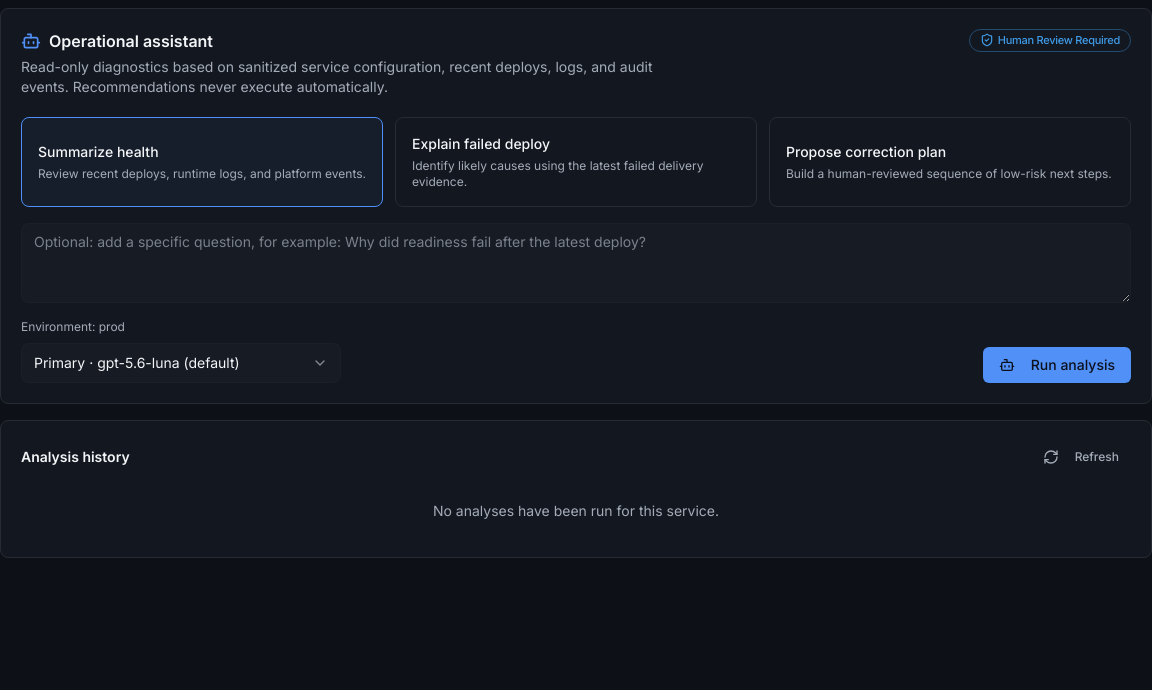
it: AssistantTab › runs a read-only analysis for the selected environment
Expected: the dropdown named "ai provider" is shown, [21, 343, 341, 383]
Click the button "Explain failed deploy". click: [576, 162]
box: [395, 117, 757, 207]
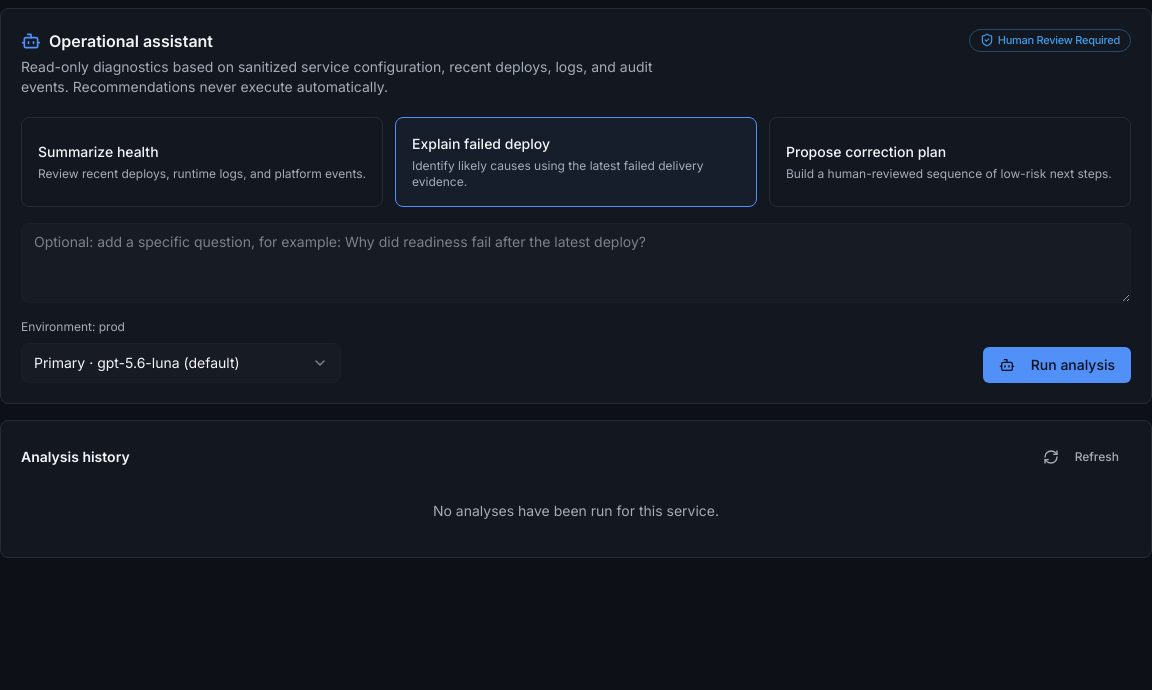
Replace the text in the text box with placeholder "Optional: add a specific question" with "What changed?". click: [576, 263]
box: [21, 223, 1131, 303]
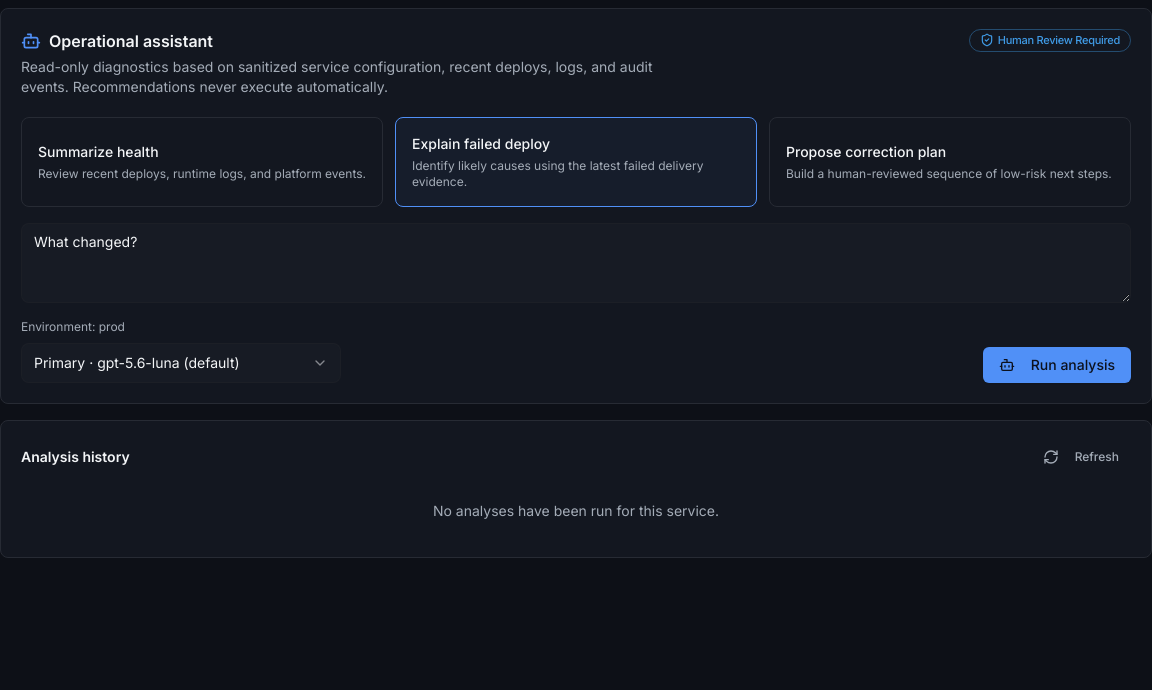
Click the button "Run analysis". click: [1057, 365]
box: [983, 347, 1131, 383]
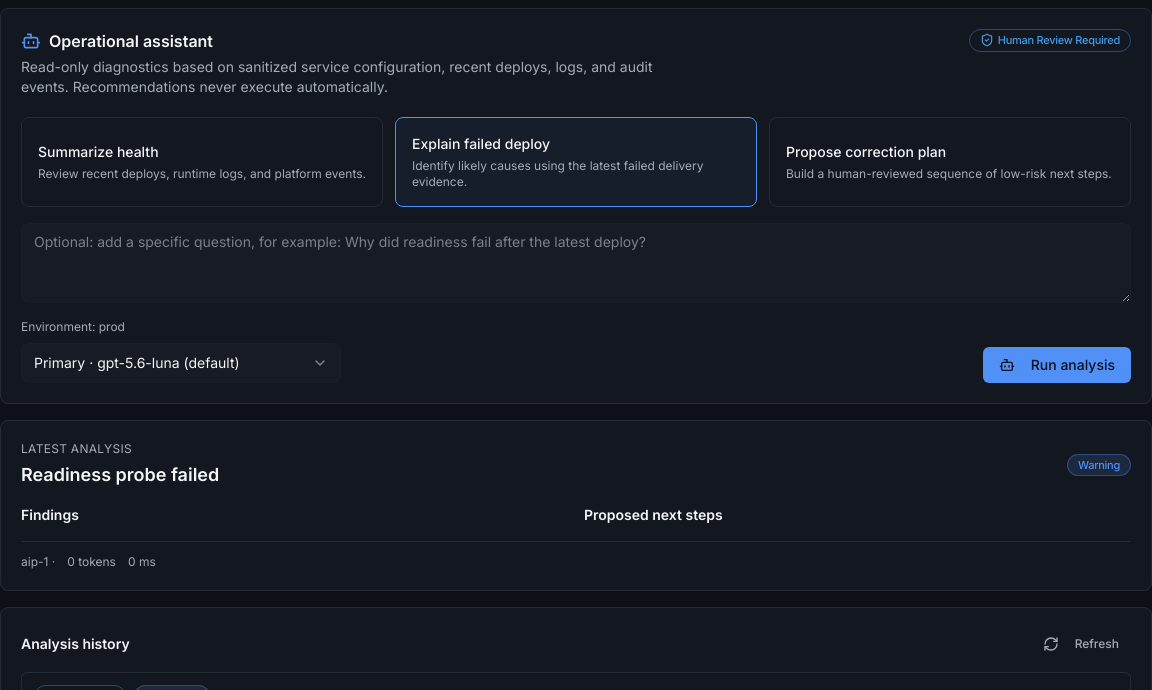
Expected: the heading "Readiness probe failed" is shown, [21, 461, 219, 489]
